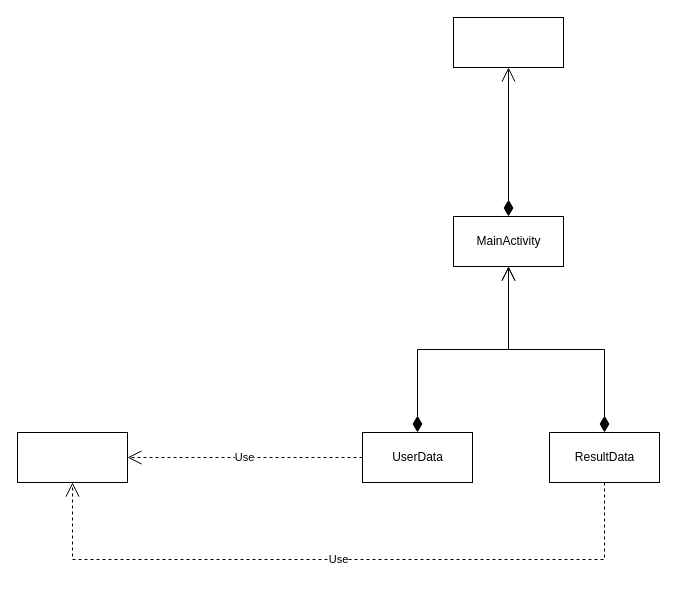
Some shapes in this 677 by 591 pixel diagram are drawn without their labels. The centre of each missing label's shape, as x and y in pixels:
Application: point 508,42
DataForm: point 72,457
